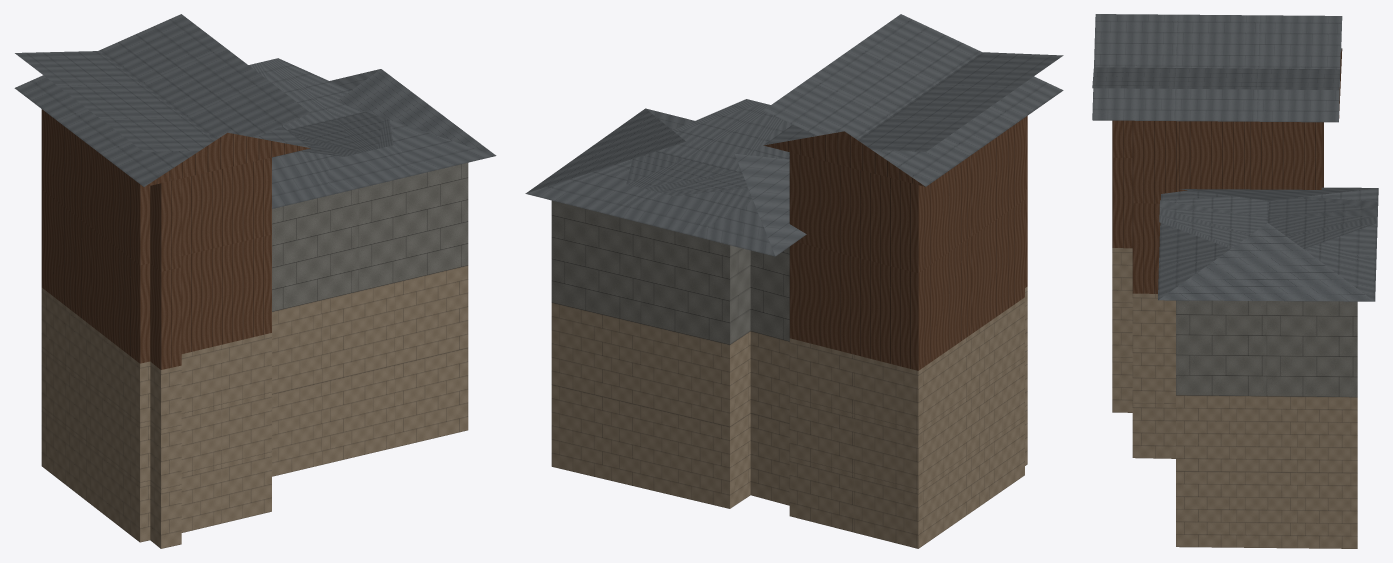
The model's file is bld_c23_46_399.gltf.
3 views of the same model, side by side, from view 1: azimuth 30°, elevation 25°; view 2: azimuth 150°, elevation 25°; view 3: azimuth 270°, elevation 25° (orthographic). The views are drawn at different scales.
Visible parts, largest first — view 1: bld_c23_46_399; view 2: bld_c23_46_399; view 3: bld_c23_46_399.
Part boxes in pixels (x1,y1,x2,y2): bld_c23_46_399: (14, 14, 496, 548); bld_c23_46_399: (525, 14, 1063, 548); bld_c23_46_399: (1092, 14, 1378, 548).
Bounding box in the file's own units: 11.61 × 11.7 × 8.04.
Materials: 5 (5 with a texture image).
